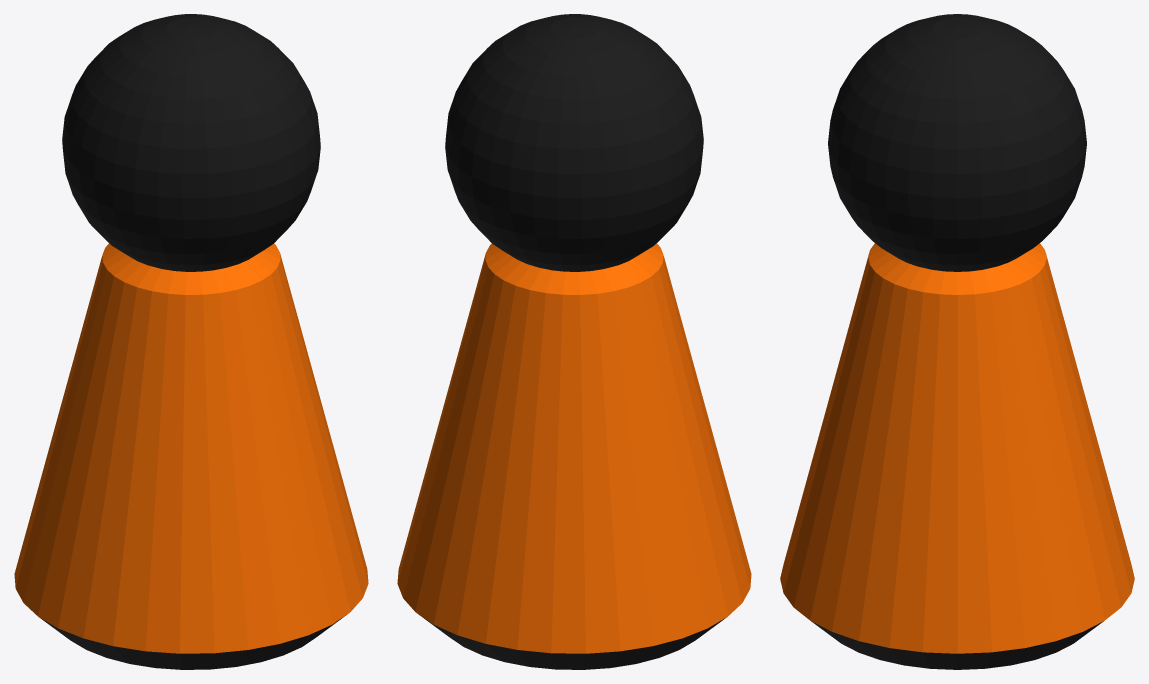
The model's file is Manager.fbx.
3 renders of one model, left to right at view 1: azimuth 30°, elevation 25°; view 2: azimuth 150°, elevation 25°; view 3: azimuth 270°, elevation 25°, orthographic.
Parts seen in each view (by area): view 1: Manager; view 2: Manager; view 3: Manager.
Boxes of the visible parts, x1,y1,x2,y2 form: Manager: (14, 14, 368, 669); Manager: (397, 14, 751, 669); Manager: (780, 14, 1134, 669).
Size of the model in its own units: 246 by 447 by 246.
